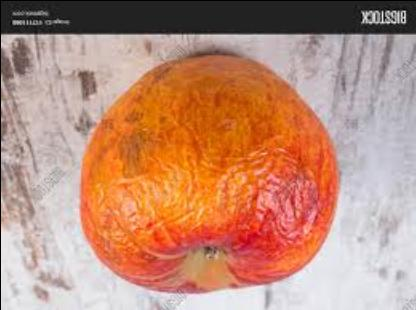defect: (75, 52, 329, 284)
